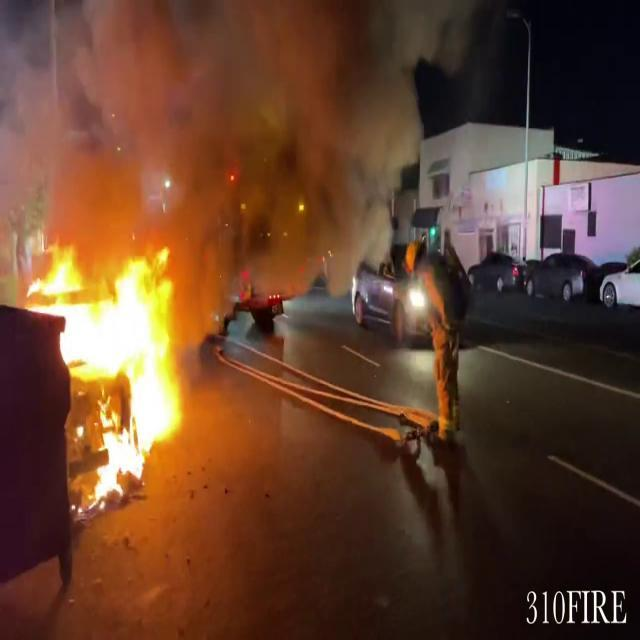Fire: (30, 238, 193, 504)
Smoke: (0, 0, 420, 275)
